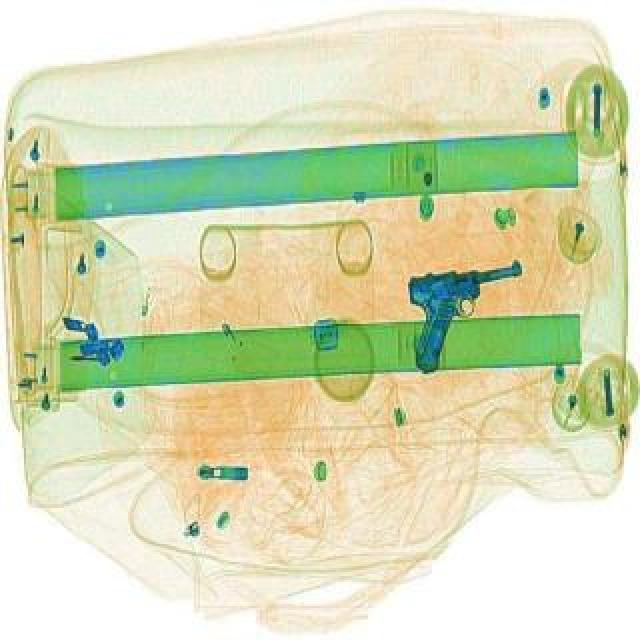gun: (404, 258, 532, 370)
